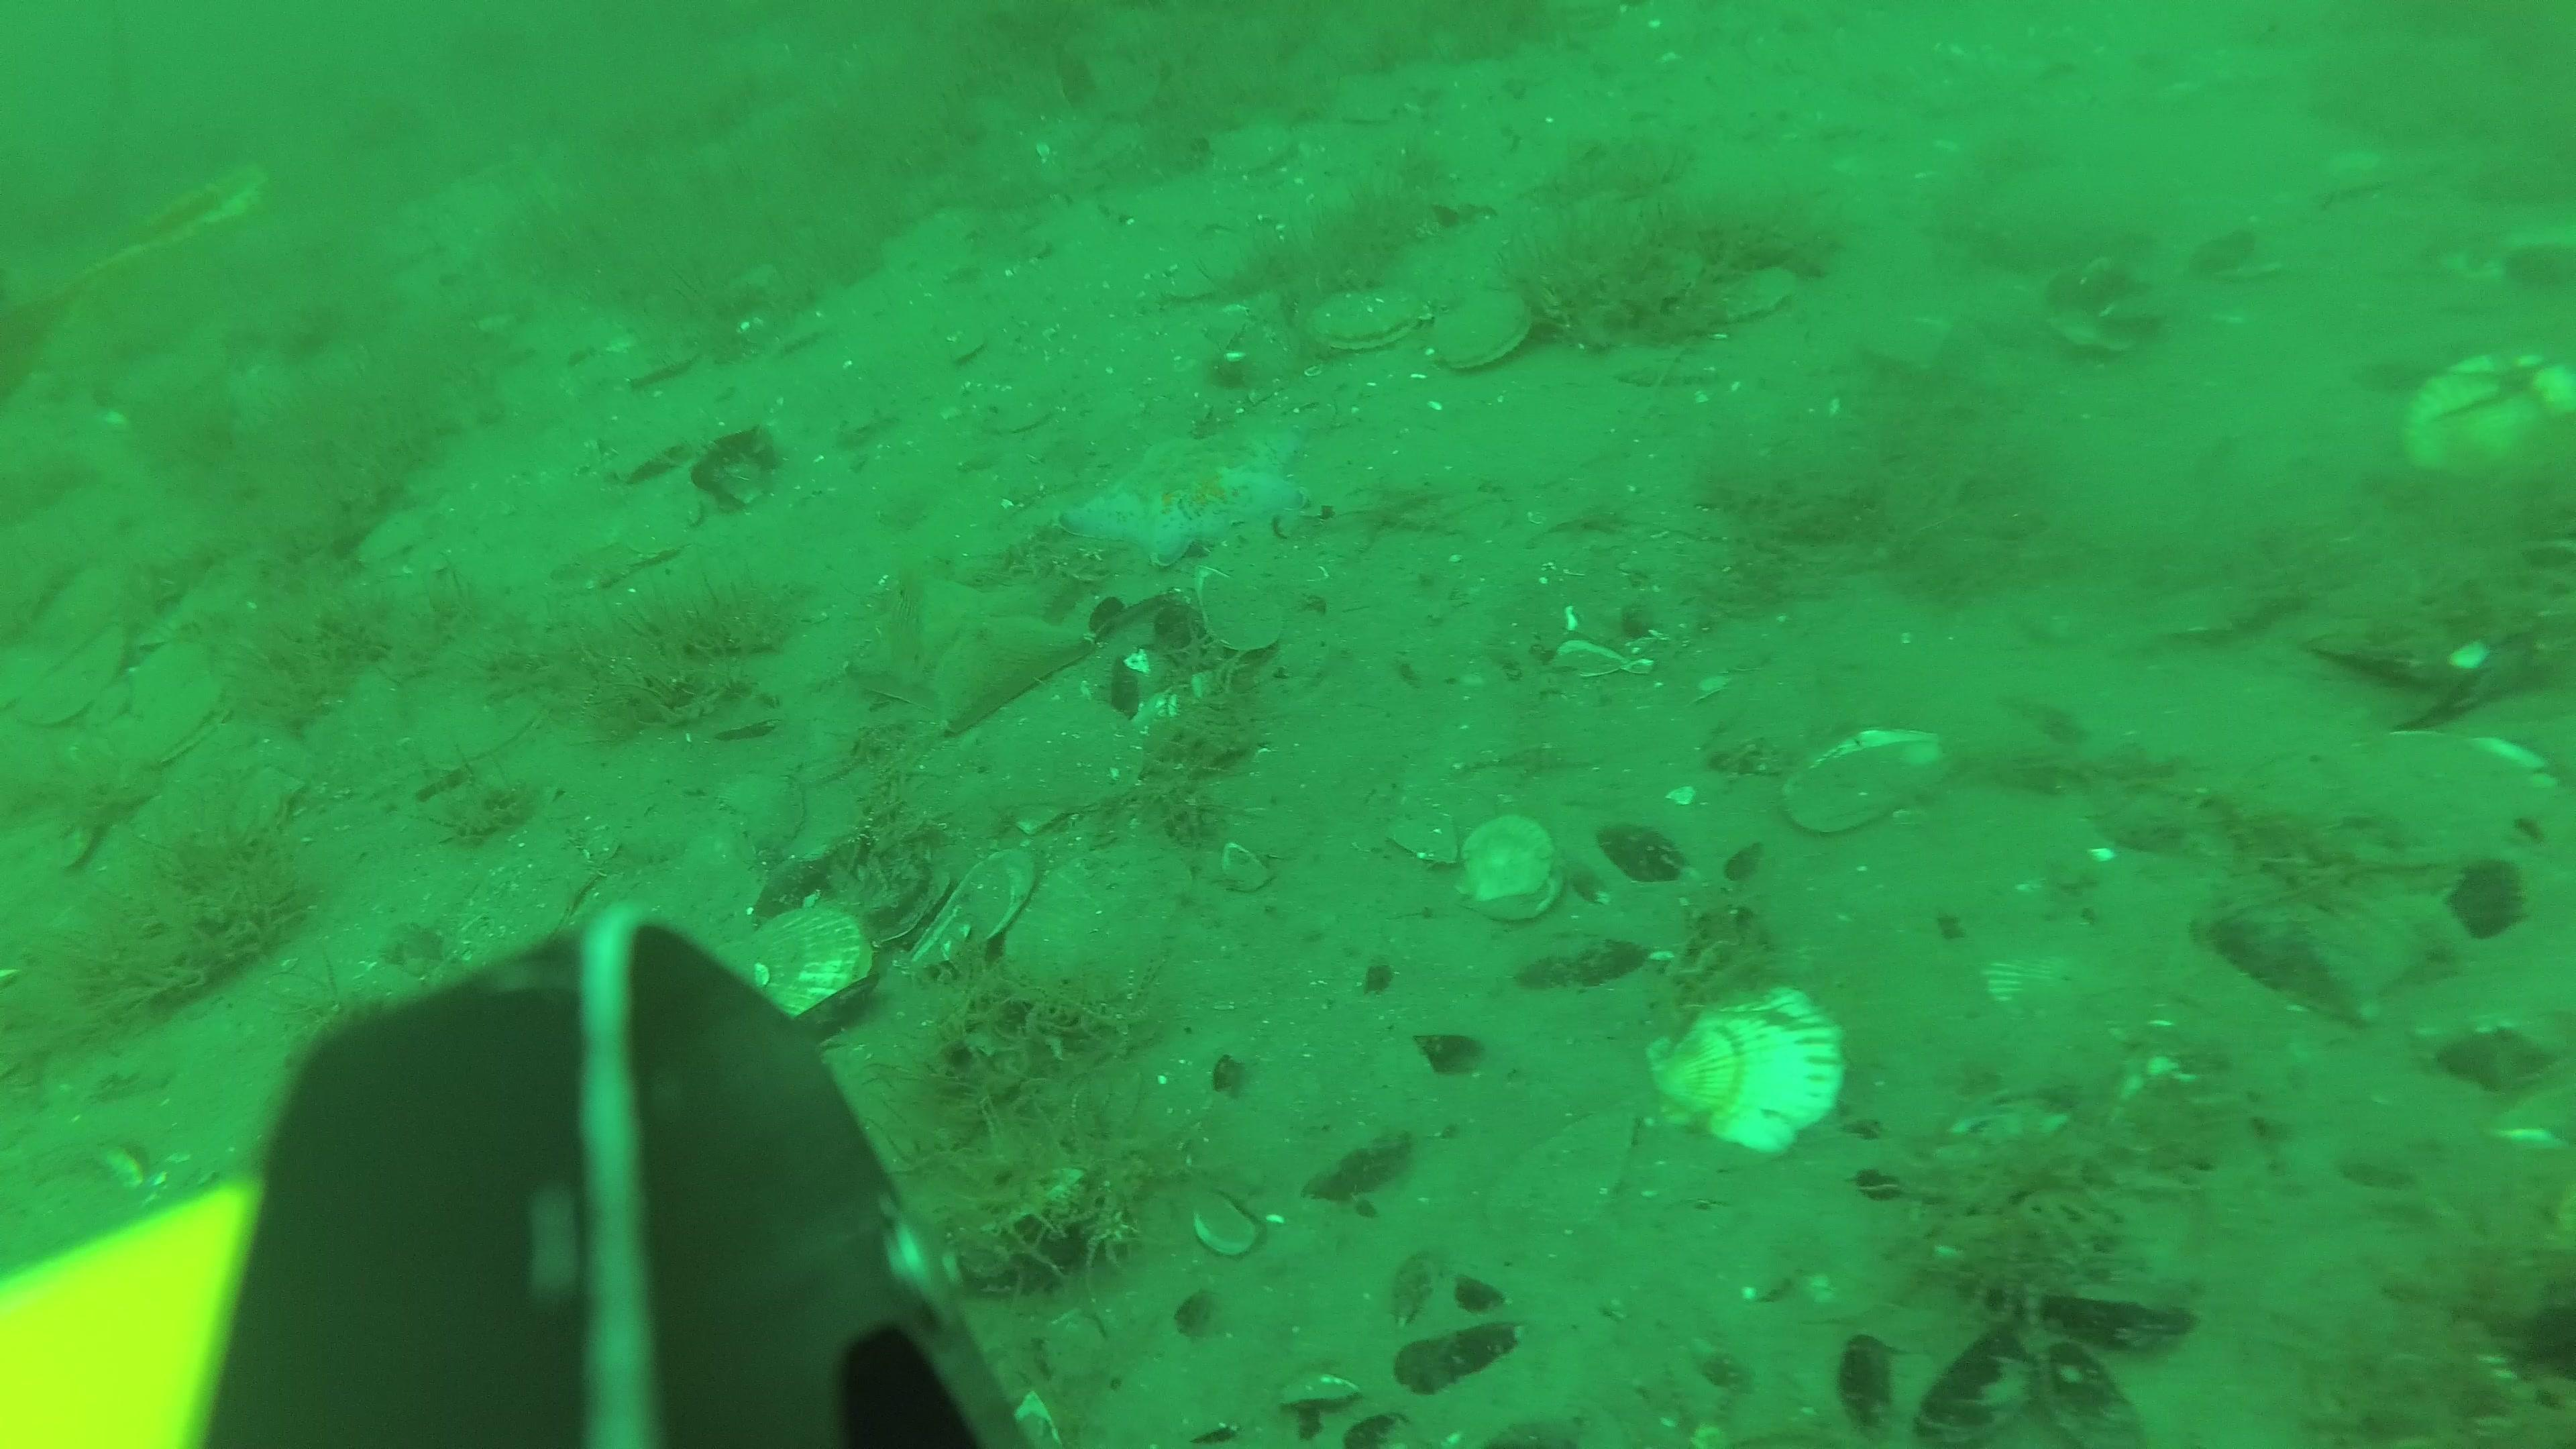scallop: (1649, 973, 1851, 1157), (2408, 341, 2576, 488), (695, 893, 869, 1024), (1778, 718, 1951, 835), (448, 855, 568, 984), (1453, 816, 1559, 924), (1431, 280, 1527, 363), (1306, 283, 1403, 349)
starfish: (853, 566, 1079, 718), (1070, 430, 1307, 556)
